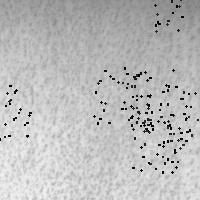pitted_surface: (2, 1, 195, 195), (131, 111, 188, 171), (112, 69, 172, 124), (93, 67, 150, 124), (157, 85, 200, 145), (0, 82, 29, 138), (154, 0, 200, 30)
